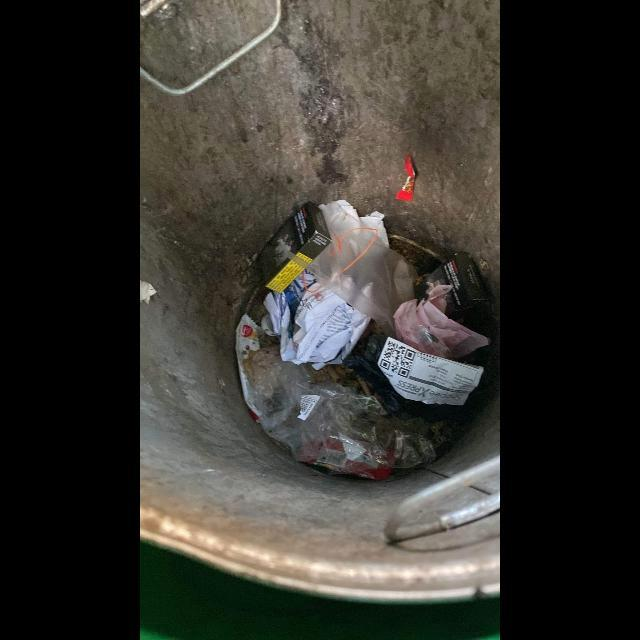cardboard: (257, 202, 332, 294), (415, 252, 488, 314)
paper: (261, 282, 371, 371), (336, 200, 389, 248)
plastic_bag: (241, 334, 462, 482), (346, 331, 485, 412), (393, 285, 489, 363)
